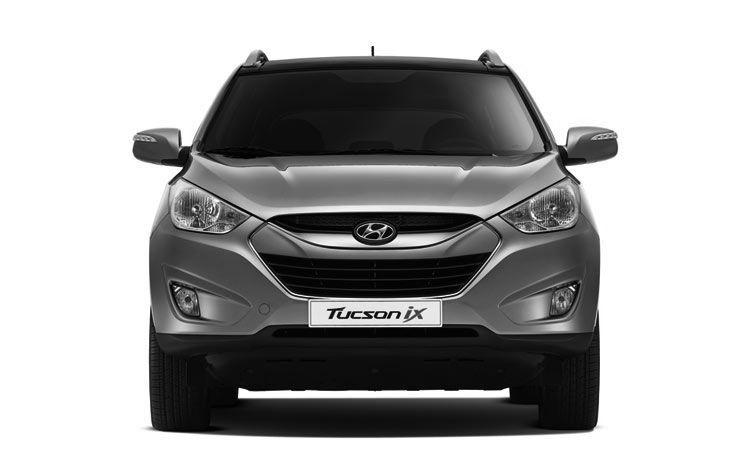car: (125, 39, 624, 442)
